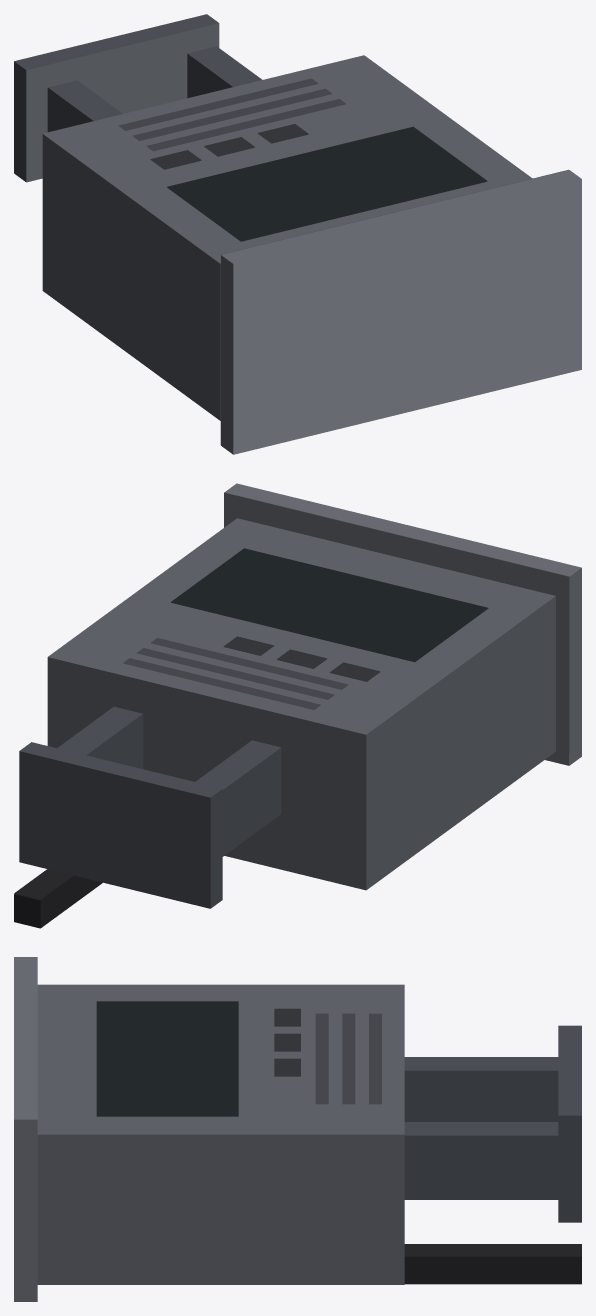
Rendered from controller_ground_basic_off_S.obj.
3 views of the same model, one above another, from view 1: azimuth 30°, elevation 25°; view 2: azimuth 150°, elevation 25°; view 3: azimuth 270°, elevation 25° (orthographic). The views are drawn at different scales.
Visible parts, largest first — view 1: controller_ground_basic_off_S; view 2: controller_ground_basic_off_S; view 3: controller_ground_basic_off_S.
Part boxes in pixels (x1,y1,x2,y2): controller_ground_basic_off_S: (14,14,581,454); controller_ground_basic_off_S: (14,483,581,928); controller_ground_basic_off_S: (14,957,581,1301).
Size of the model in its own units: 0.65 by 0.37 by 0.96.
Materials: 1 (1 with a texture image).
